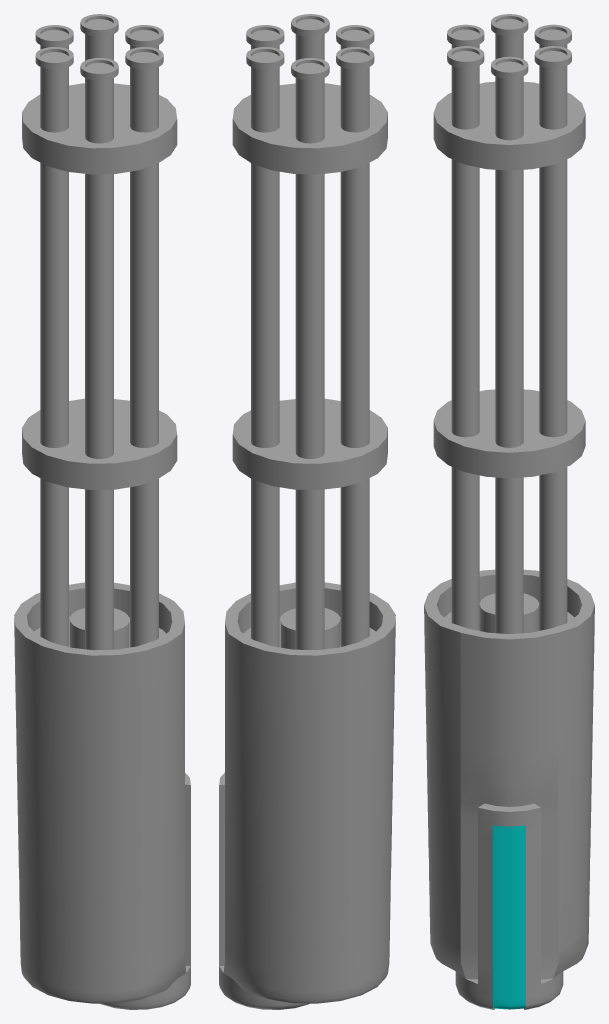
Rendered from GatlingGun.fbx.
The picture shows the model from 3 angles, left to right: view 1: azimuth 30°, elevation 25°; view 2: azimuth 150°, elevation 25°; view 3: azimuth 270°, elevation 25°; orthographic projection. The views are drawn at different scales.
Visible parts, largest first — view 1: Base, Barrel2, Barrel3, Barrel1, Holder1, Holder2, Barrel6, Barrel5, Barrel4; view 2: Base, Barrel5, Barrel1, Barrel6, Holder1, Holder2, Barrel3, Barrel2, Barrel4; view 3: Base, Barrel4, Barrel6, Barrel3, Holder2, Holder1, Light, Barrel1, Barrel2, Barrel5.
Part boxes in pixels (box(x1,y1,x2,y2)): Base: box(14, 582, 190, 1009); Barrel2: box(80, 58, 118, 650); Barrel3: box(125, 47, 163, 647); Barrel1: box(35, 47, 73, 646); Holder1: box(22, 83, 177, 174); Holder2: box(22, 398, 177, 489); Barrel6: box(80, 14, 118, 60); Barrel5: box(35, 25, 73, 49); Barrel4: box(125, 25, 163, 49); Base: box(219, 582, 395, 1009); Barrel5: box(291, 58, 329, 650); Barrel1: box(336, 47, 374, 646); Barrel6: box(246, 47, 284, 647); Holder1: box(232, 83, 387, 174); Holder2: box(232, 398, 387, 489); Barrel3: box(291, 14, 329, 60); Barrel2: box(336, 25, 374, 49); Barrel4: box(246, 25, 284, 49); Base: box(424, 569, 594, 1009); Barrel4: box(491, 56, 528, 633); Barrel6: box(534, 46, 571, 630); Barrel3: box(447, 46, 484, 630); Holder2: box(433, 389, 585, 478); Holder1: box(433, 81, 585, 170); Light: box(493, 825, 525, 1009); Barrel1: box(491, 14, 528, 59); Barrel2: box(447, 24, 484, 48); Barrel5: box(534, 24, 571, 48).
Size of the model in its own units: 12.61 by 72.63 by 12.1.
